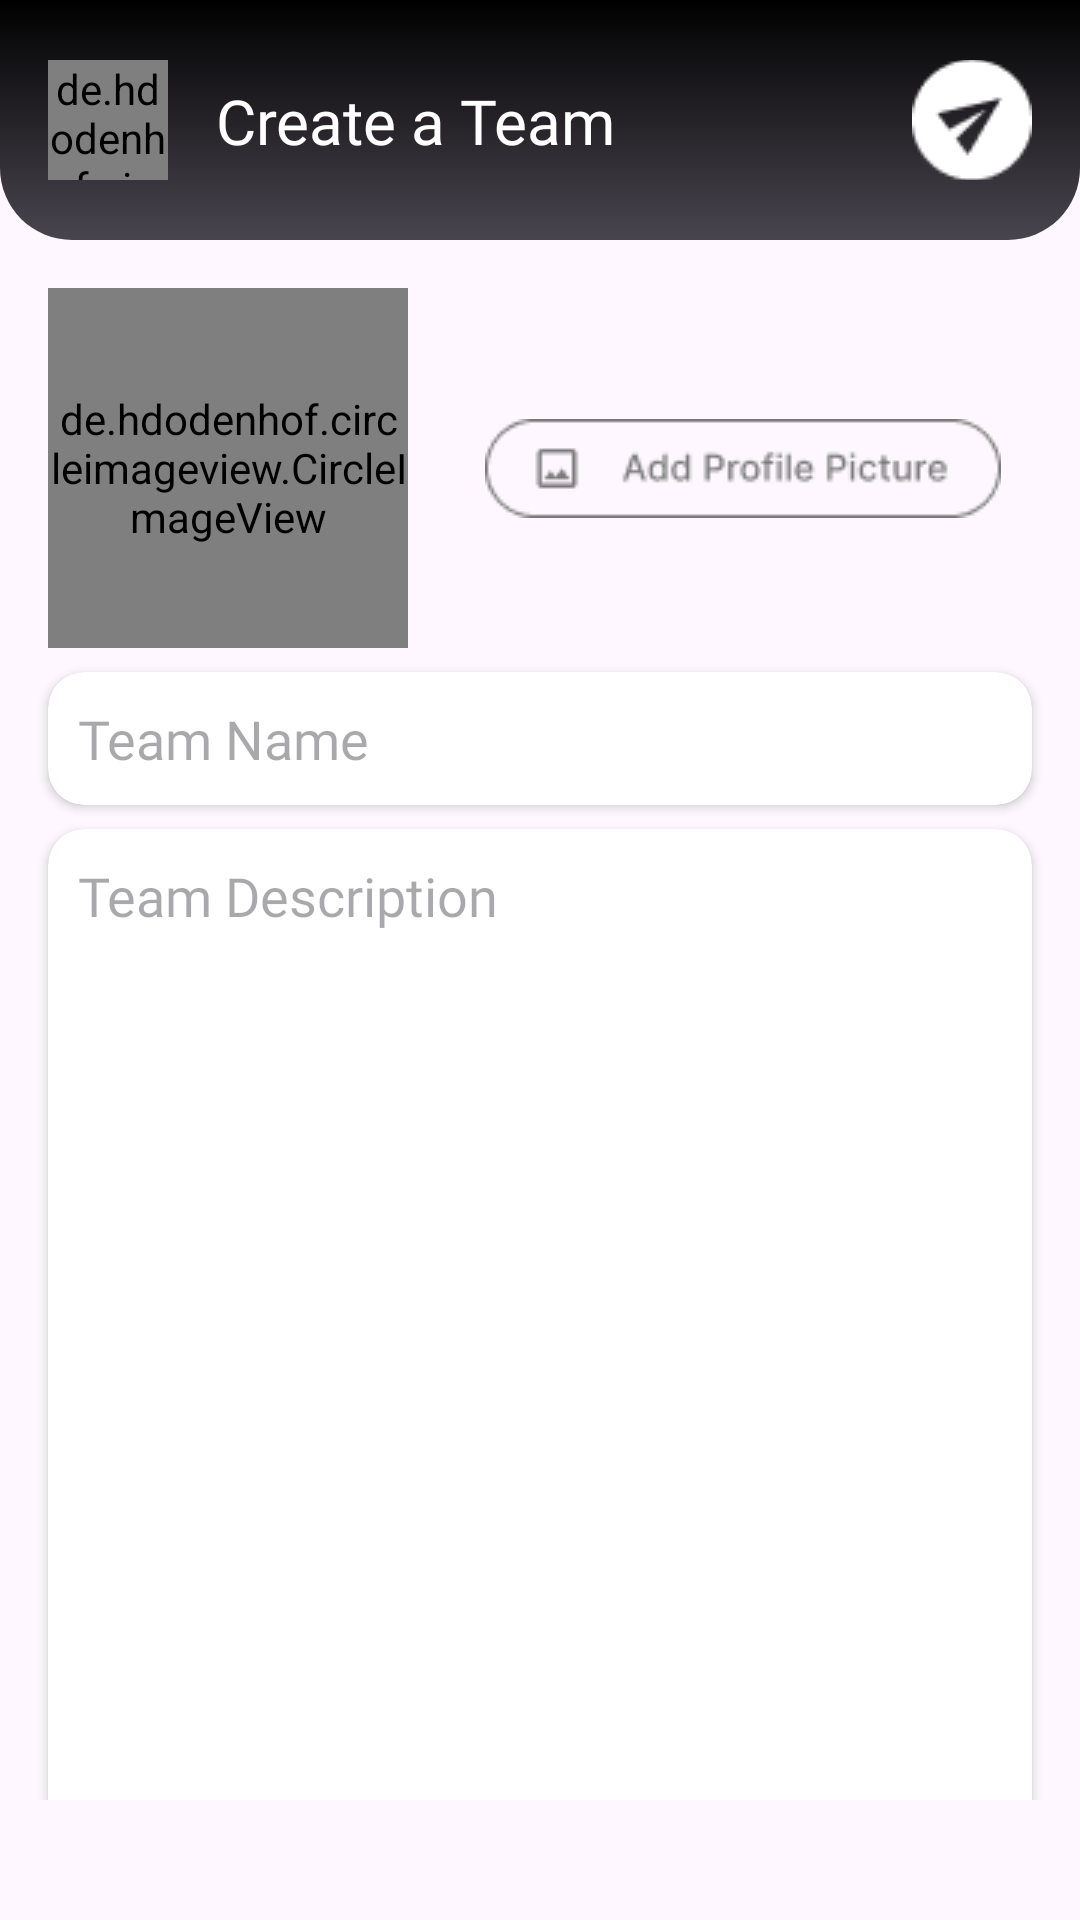

Icon click points for this 1080*1920 phone screenshot, format [x,y]:
send: [972,120]
